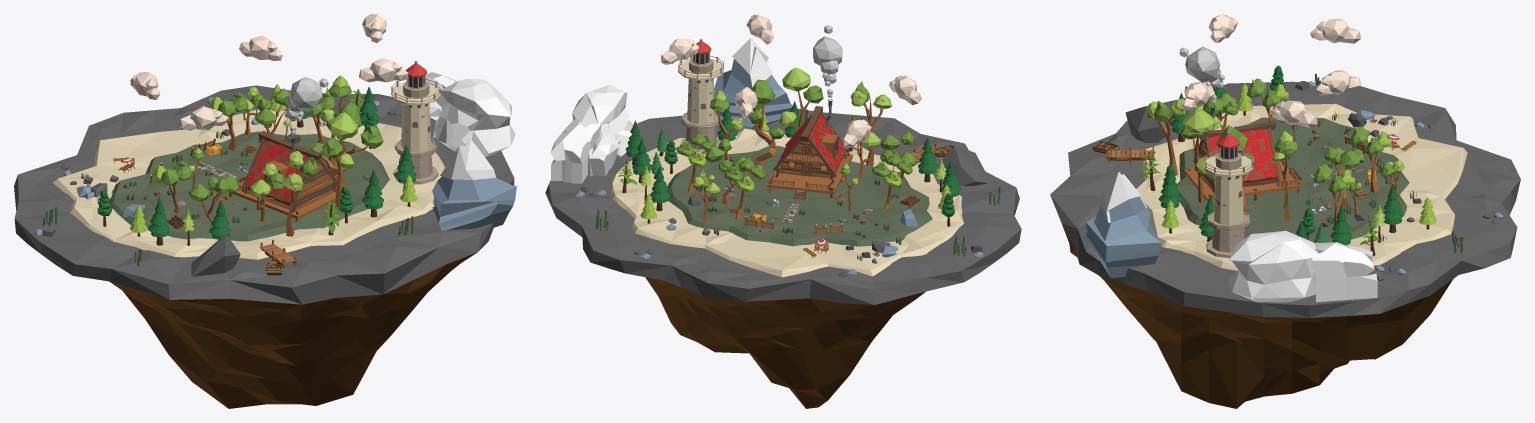
The model's file is Floating Port.glb.
The picture shows the model from 3 angles, left to right: view 1: azimuth 30°, elevation 25°; view 2: azimuth 150°, elevation 25°; view 3: azimuth 270°, elevation 25°; orthographic projection. The views are drawn at different scales.
Visible parts, largest first — view 1: Floting Base, Rock, Big Rock, M_House, Light House, Tree, M_Tree 5, M_Smoke, M_Tree 6, M_Tree_4, M_Tree 1-1, M_Cloud-3 (+14 smaller); view 2: Floting Base, Big Rock, M_House, Rock, Light House, Tree, M_Tree 5, M_Tree 6, M_Smoke, M_Tree 3-1, M_Tree 3, M_Tree_4 (+14 smaller); view 3: Floting Base, Big Rock, Rock, Light House, M_House, Tree, M_Smoke, M_Tree 5, M_Tree_4, M_Tree 3-1, M_Cloud-1, M_Cloud-2 (+12 smaller).
Part boxes in pixels (left/top/right/bottom): Floting Base: left=14, top=85, right=514, bottom=408; Rock: left=83, top=97, right=516, bottom=276; Big Rock: left=401, top=72, right=515, bottom=156; M_House: left=229, top=130, right=342, bottom=221; Light House: left=391, top=61, right=440, bottom=184; Tree: left=97, top=86, right=418, bottom=226; M_Tree 5: left=322, top=112, right=358, bottom=207; M_Smoke: left=285, top=77, right=328, bottom=134; M_Tree 6: left=309, top=102, right=383, bottom=186; M_Tree_4: left=283, top=151, right=317, bottom=236; M_Tree 1-1: left=189, top=175, right=238, bottom=223; M_Cloud-3: left=359, top=58, right=408, bottom=82; Floting Base: left=545, top=108, right=1021, bottom=408; Big Rock: left=550, top=84, right=633, bottom=183; M_House: left=766, top=99, right=852, bottom=200; Rock: left=633, top=38, right=990, bottom=257; Light House: left=678, top=38, right=724, bottom=154; Tree: left=618, top=101, right=954, bottom=226; M_Tree 5: left=779, top=68, right=823, bottom=130; M_Tree 6: left=749, top=79, right=784, bottom=165; M_Smoke: left=813, top=25, right=842, bottom=97; M_Tree 3-1: left=725, top=155, right=765, bottom=219; M_Tree 3: left=872, top=150, right=912, bottom=209; M_Tree_4: left=851, top=81, right=891, bottom=165; Floting Base: left=1050, top=81, right=1520, bottom=408; Big Rock: left=1227, top=230, right=1377, bottom=302; Rock: left=1084, top=106, right=1497, bottom=277; Light House: left=1204, top=131, right=1253, bottom=257; M_House: left=1184, top=106, right=1302, bottom=201; Tree: left=1158, top=65, right=1385, bottom=256; M_Smoke: left=1179, top=46, right=1224, bottom=103; M_Tree 5: left=1181, top=109, right=1215, bottom=202; M_Tree_4: left=1146, top=98, right=1186, bottom=175; M_Tree 3-1: left=1349, top=126, right=1391, bottom=192; M_Cloud-1: left=1310, top=18, right=1360, bottom=43; M_Cloud-2: left=1270, top=100, right=1317, bottom=128.
Size of the model in its own units: 31.88 by 23.98 by 27.85.
1 material, 1 textured.
